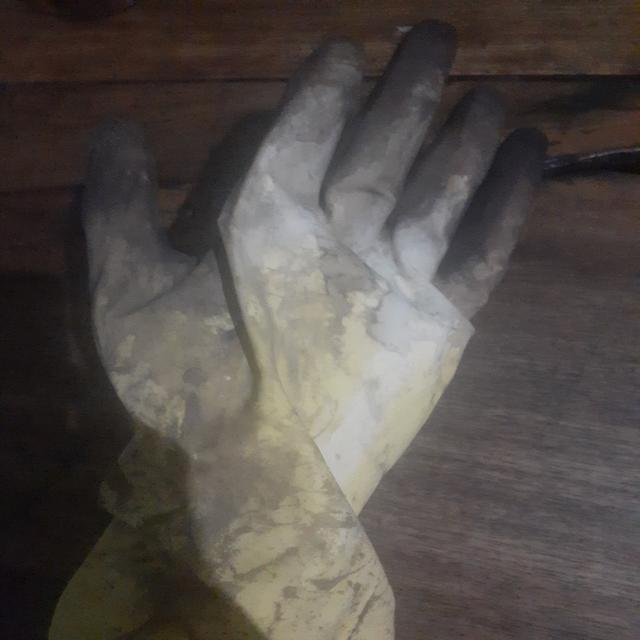glove_hand: (70, 10, 560, 630)
